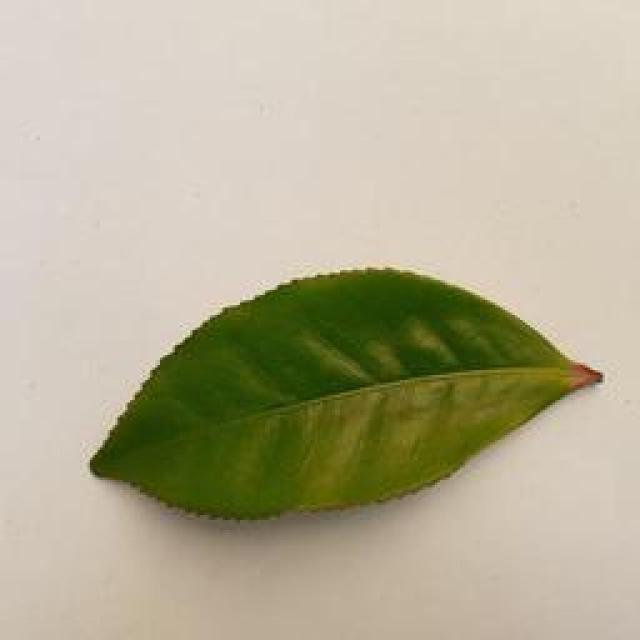Healthy: (83, 270, 600, 500)
